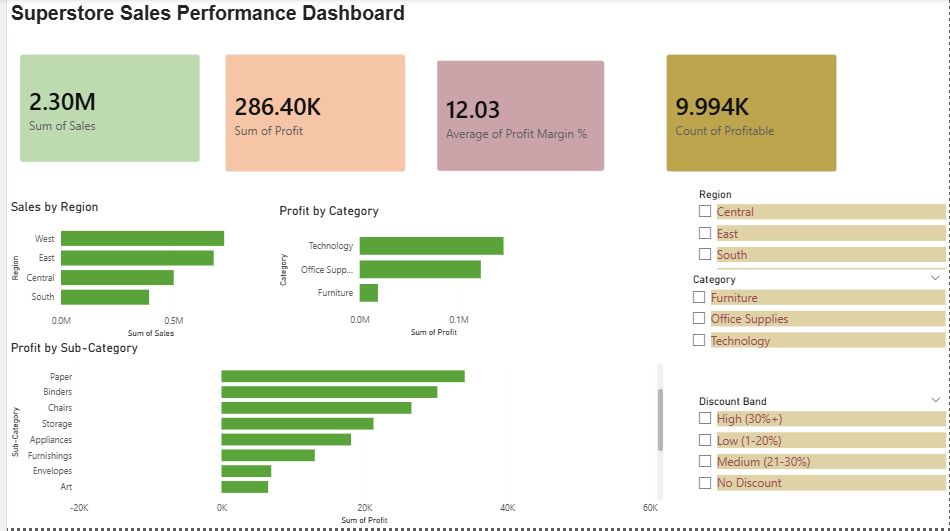

The page's visual inventory and layout, read from the dashboard file:
{"tool":"powerbi","page":{"name":"Page 1","canvas":[1280,720],"ordinal":0},"visuals":[{"type":"cardVisual","fields":{"Data":["Sum(superstore_powerbi.Sales)"]},"box":[0,58.6,279.7,181.4],"z":0},{"type":"cardVisual","fields":{"Data":["Sum(superstore_powerbi.Profit)"]},"box":[279.7,58.6,279.7,194.6],"z":1},{"type":"cardVisual","fields":{"Data":["Avg(superstore_powerbi.Profit Margin %)"]},"box":[566.9,68,262.7,185.2],"z":2},{"type":"cardVisual","fields":{"Data":["CountNonNull(superstore_powerbi.Profitable)"]},"box":[878.7,58.6,266.5,194.6],"z":3},{"type":"textbox","box":[0,0,623.6,58.6],"z":4},{"type":"clusteredBarChart","title":"Sales by Region","fields":{"Category":["superstore_powerbi.Region"],"Y":["Sum(superstore_powerbi.Sales)"]},"box":[0,272.1,336.4,192.8],"z":5},{"type":"clusteredBarChart","title":"Profit by Category","fields":{"Category":["superstore_powerbi.Category"],"Y":["Sum(superstore_powerbi.Profit)"]},"box":[364.7,279.7,334.5,185.2],"z":6},{"type":"clusteredBarChart","title":"Profit by Sub-Category","fields":{"Category":["superstore_powerbi.Sub-Category"],"Y":["Sum(superstore_powerbi.Profit)"]},"box":[0,465,896,255],"z":7},{"type":"slicer","fields":{"Values":["superstore_powerbi.Region"]},"box":[926,253.2,353.4,145.5],"z":8},{"type":"slicer","fields":{"Values":["superstore_powerbi.Category"]},"box":[918.4,368.5,360.9,166.3],"z":9},{"type":"slicer","fields":{"Values":["superstore_powerbi.Discount Band"]},"box":[926,532.9,353.4,166.3],"z":10}]}

Visuals, with their boxes in screenshot pixels (x1, y1, x2, y2), scaled from the page's 1280x720 canvas onto the 950x531 screenshot:
cardVisual - Sum(superstore_powerbi.Sales): BBox(0, 43, 208, 177)
cardVisual - Sum(superstore_powerbi.Profit): BBox(208, 43, 415, 187)
cardVisual - Avg(superstore_powerbi.Profit Margin %): BBox(421, 50, 616, 187)
cardVisual - CountNonNull(superstore_powerbi.Profitable): BBox(652, 43, 850, 187)
textbox: BBox(0, 0, 463, 43)
"Sales by Region" clusteredBarChart: BBox(0, 201, 250, 343)
"Profit by Category" clusteredBarChart: BBox(271, 206, 519, 343)
"Profit by Sub-Category" clusteredBarChart: BBox(0, 343, 665, 530)
slicer - superstore_powerbi.Region: BBox(687, 187, 949, 294)
slicer - superstore_powerbi.Category: BBox(682, 272, 949, 394)
slicer - superstore_powerbi.Discount Band: BBox(687, 393, 949, 516)
